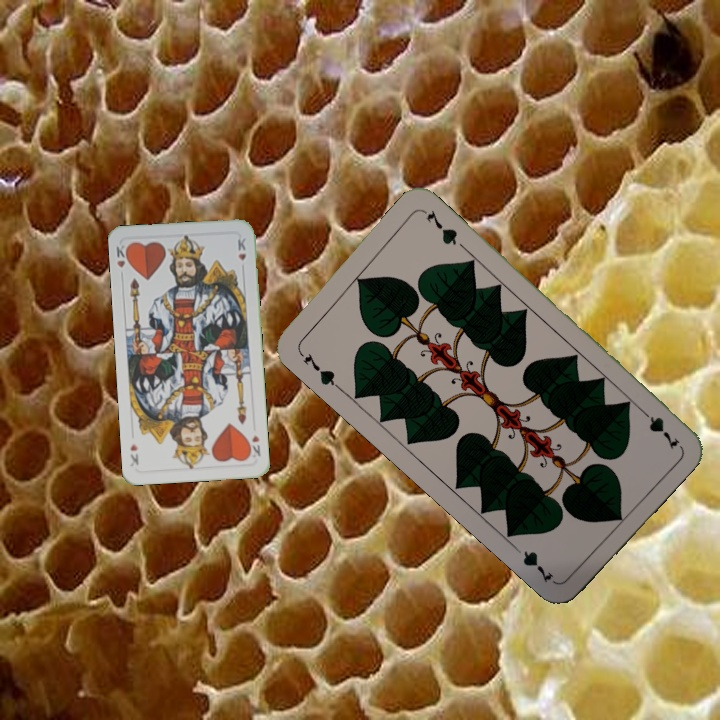G7: (634, 403, 683, 452), (294, 346, 342, 391)
HK: (112, 241, 132, 281), (244, 431, 263, 459)
